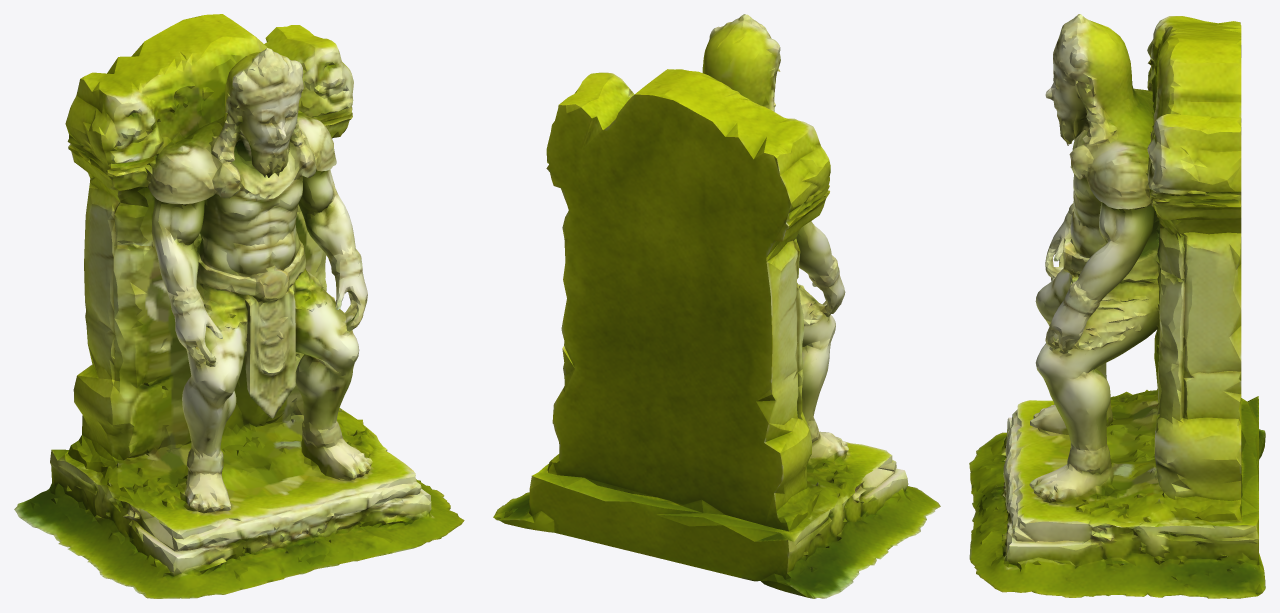
The model's file is temple_guardian_statue_v001.glb.
The picture shows the model from 3 angles, left to right: view 1: azimuth 30°, elevation 25°; view 2: azimuth 150°, elevation 25°; view 3: azimuth 270°, elevation 25°; orthographic projection. The views are drawn at different scales.
Visible parts, largest first — view 1: Temple_Guardian_Statue; view 2: Temple_Guardian_Statue; view 3: Temple_Guardian_Statue.
Part boxes in pixels (x1,y1,x2,y2): Temple_Guardian_Statue: [14, 14, 464, 598]; Temple_Guardian_Statue: [493, 14, 940, 598]; Temple_Guardian_Statue: [969, 14, 1265, 598].
Size of the model in its own units: 4.25 by 5.71 by 3.08.
1 material, 1 textured.
